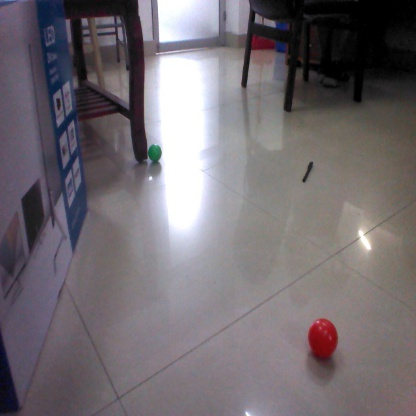ball: (306, 318, 340, 360), (144, 141, 168, 164)
pen: (300, 159, 317, 184)
